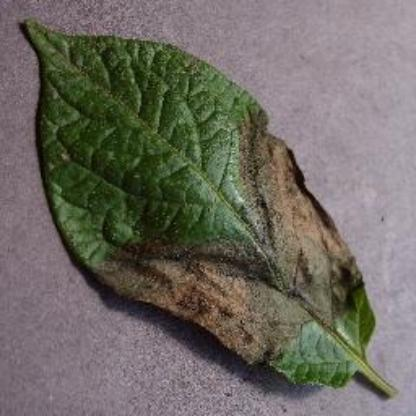Late-Blight: (18, 6, 378, 396)
